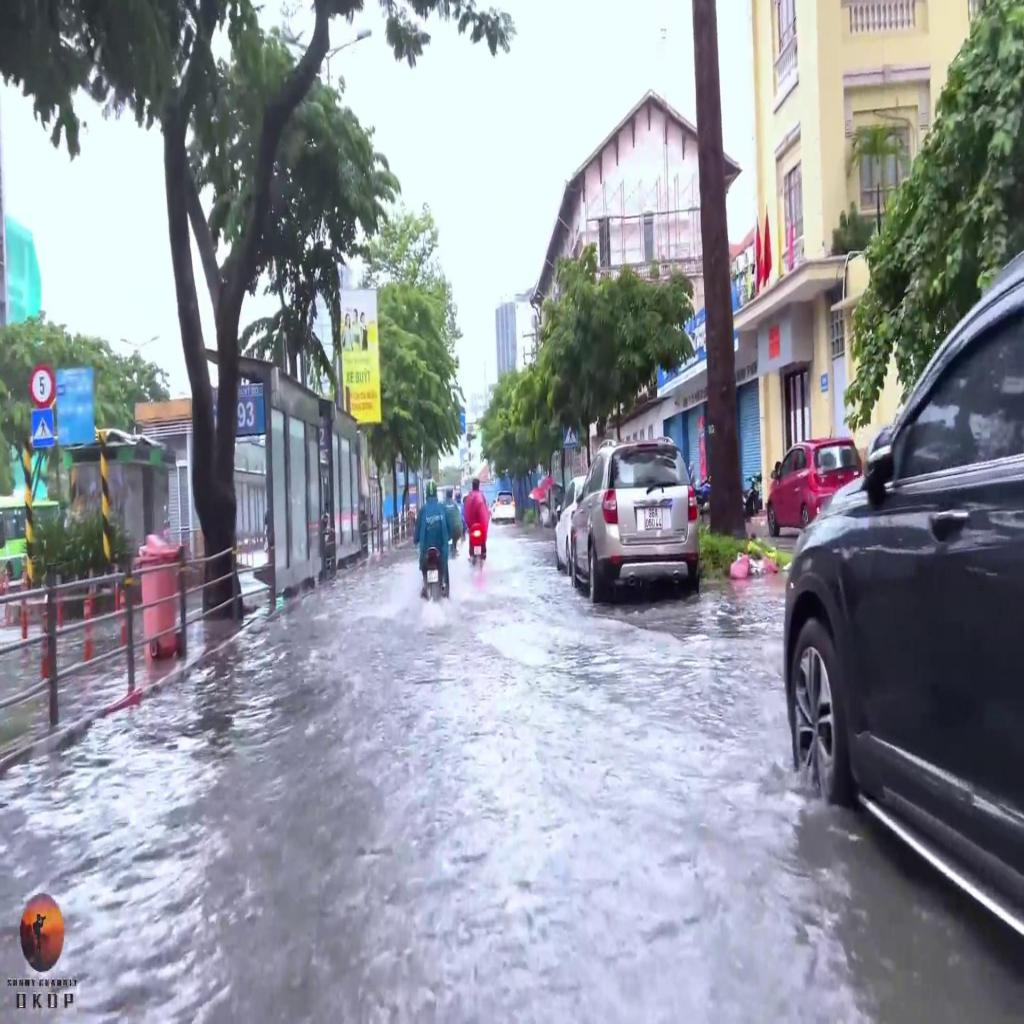duong_nguoi_di_bo_sang_ngang: (31, 408, 54, 448)
khac: (29, 365, 56, 409)
